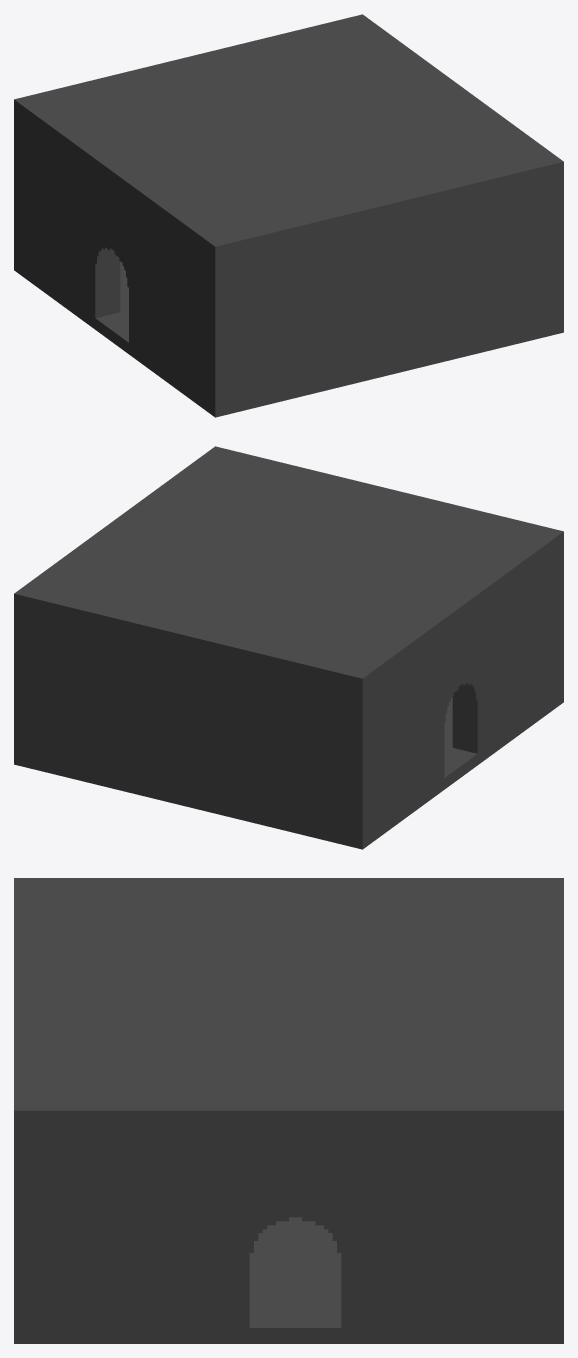
Rendered from Area.obj.
The picture shows the model from 3 angles, top to bottom: view 1: azimuth 30°, elevation 25°; view 2: azimuth 150°, elevation 25°; view 3: azimuth 270°, elevation 25°; orthographic projection. The views are drawn at different scales.
Size of the model in its own units: 126 by 59 by 126.
1 material, 1 textured.
